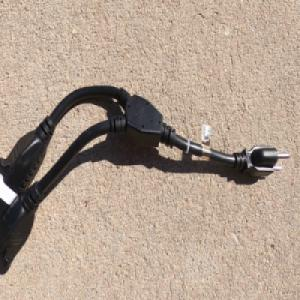Wire: (0, 84, 289, 267)
